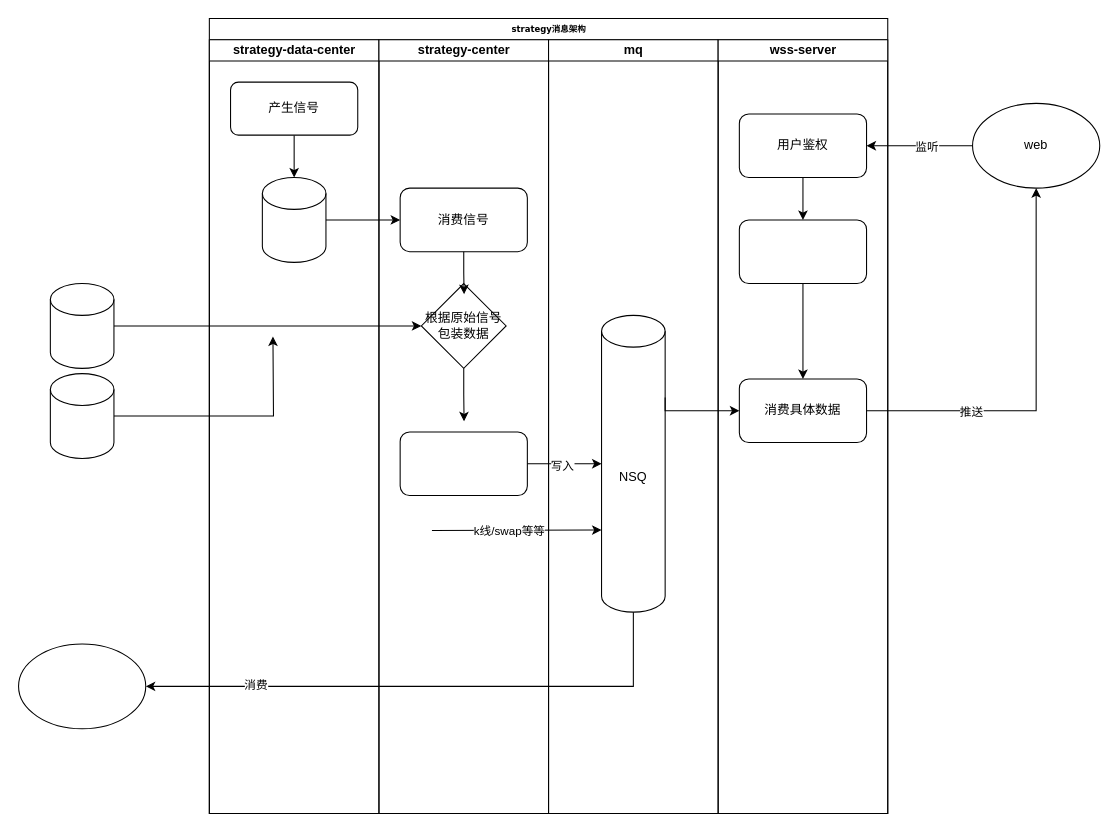
Some shapes in this 1118 by 832 pixel diagram are drawn without their labels. Here are the shapes that lost their labels. From the top down, the centre of each, then its label:
At (293,219): "redis-stream".
At (802,251): "根据event-type订阅".
At (81,325): "user-center".
At (81,415): "portal".
At (463,463): "定义好的数据结构".
At (81,686): "tg推送".
